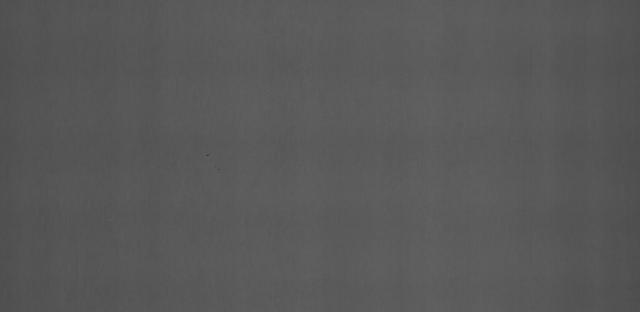inclusion: (201, 148, 222, 173)
